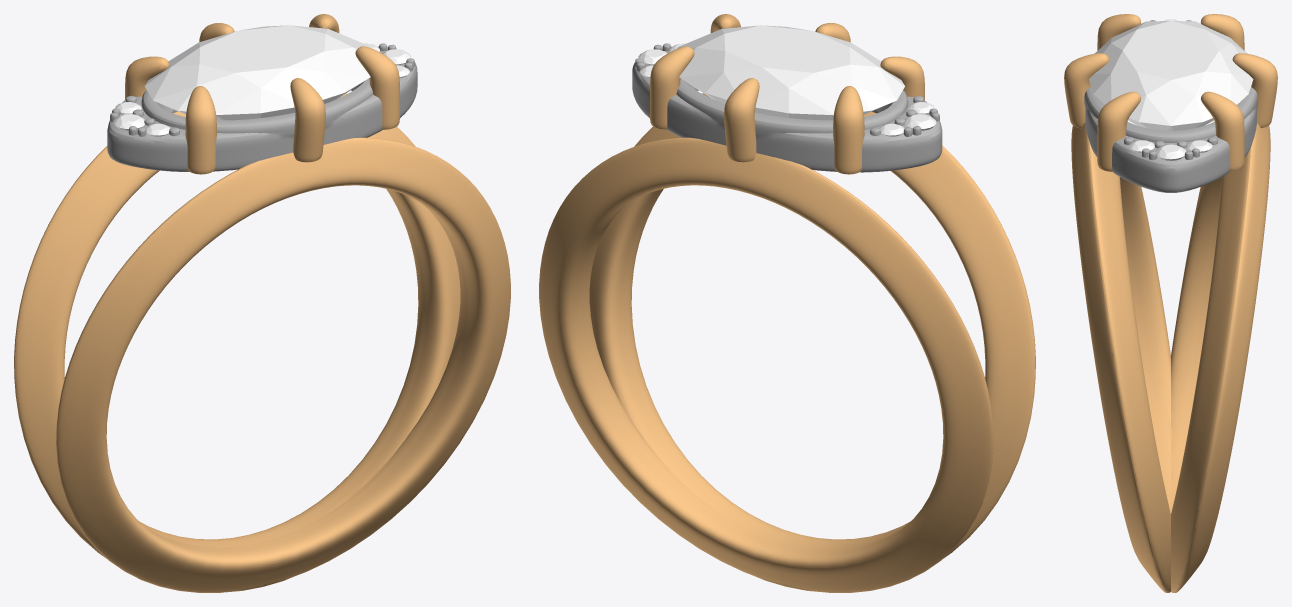
3 views of the same model, side by side, from view 1: azimuth 30°, elevation 25°; view 2: azimuth 150°, elevation 25°; view 3: azimuth 270°, elevation 25° (orthographic). The views are drawn at different scales.
Visible parts, largest first — view 1: object 5, PART0001, object 6, object 2, object 4, object 1; view 2: object 5, PART0001, object 6, object 1, object 3, object 2; view 3: object 5, PART0001 (×2), object 6, object 4, object 3, object 2, object 1.
Part boxes in pixels (x1,y1,x2,y2): object 5: (14,23,510,592); PART0001: (144,25,372,120); object 6: (107,43,417,171); object 2: (185,86,216,174); object 4: (355,46,399,129); object 1: (125,56,169,99); object 5: (539,23,1035,592); PART0001: (677,25,904,120); object 6: (632,43,942,172); object 1: (833,86,864,174); object 3: (650,46,694,129); object 2: (880,56,924,99); object 5: (1064,53,1277,592); PART0001 (×2): (1089,21,1253,160); object 6: (1084,20,1257,192); object 4: (1097,91,1140,171); object 3: (1201,91,1244,171); object 2: (1097,14,1141,50); object 1: (1200,14,1244,50).
Size of the model in its own units: 2.54 by 2.89 by 1.08.
